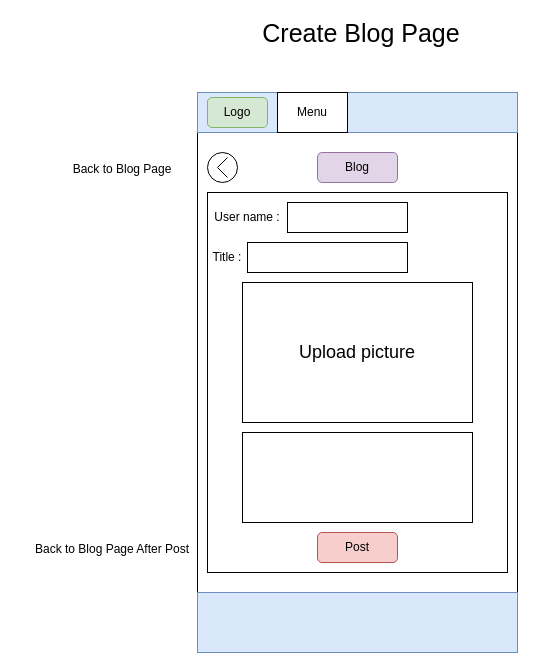
This 535x670 diagram has some shape labels left out. Here are the shapes that lost their labels. From the top down, the box of each, then its label:
(242, 432, 472, 522): Text
(196, 592, 518, 652): Footer
